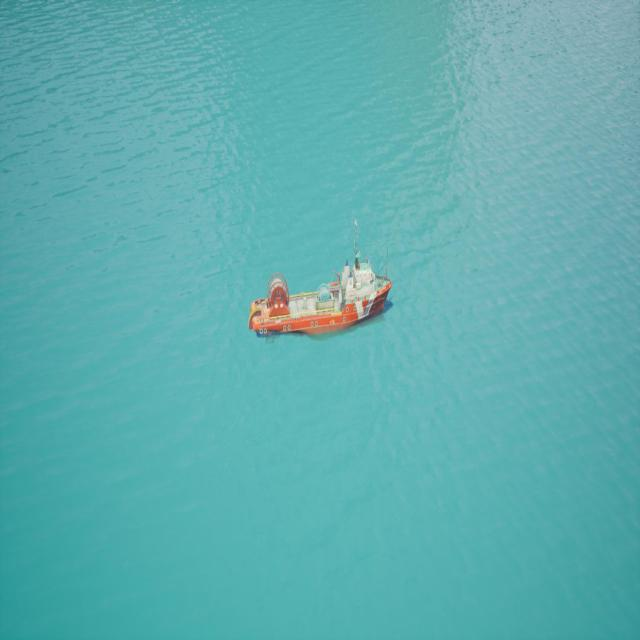tug boat: (247, 219, 394, 344)
